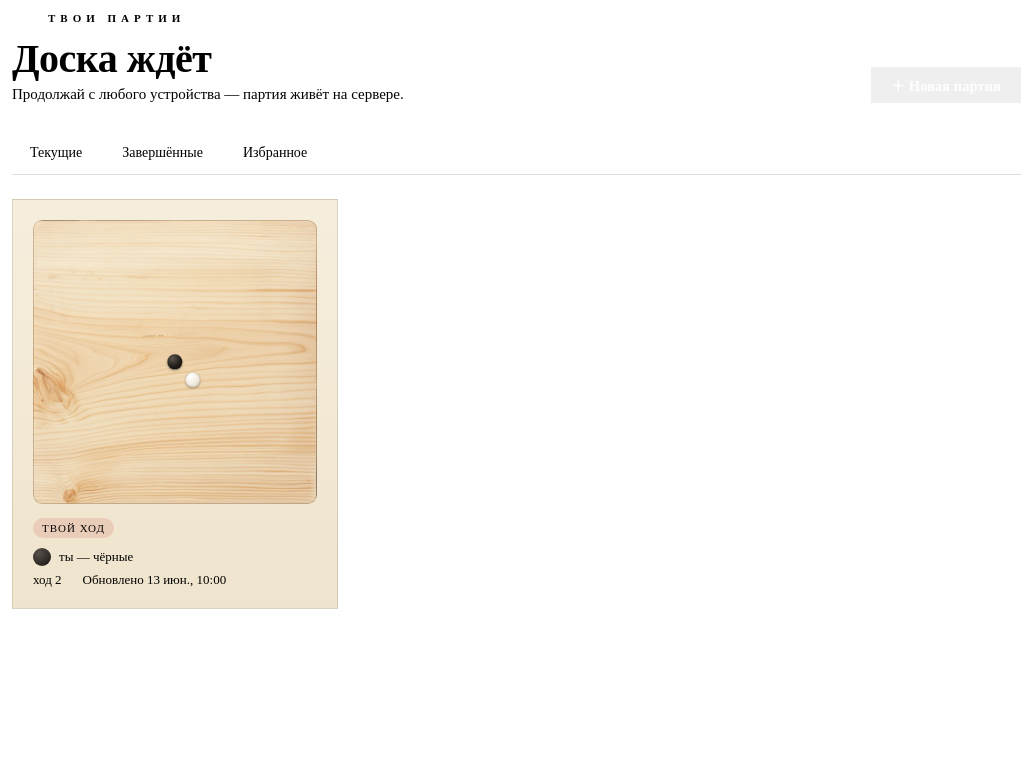
Scenario: грузит Текущие по умолчанию; таб «Завершённые» перезапрашивает свой раздел
Check: the button with test id "card-c1" is shown, box [12,199,338,609]
Click the tab "Завершённые". click: (163, 154)
box: [104,133,221,175]
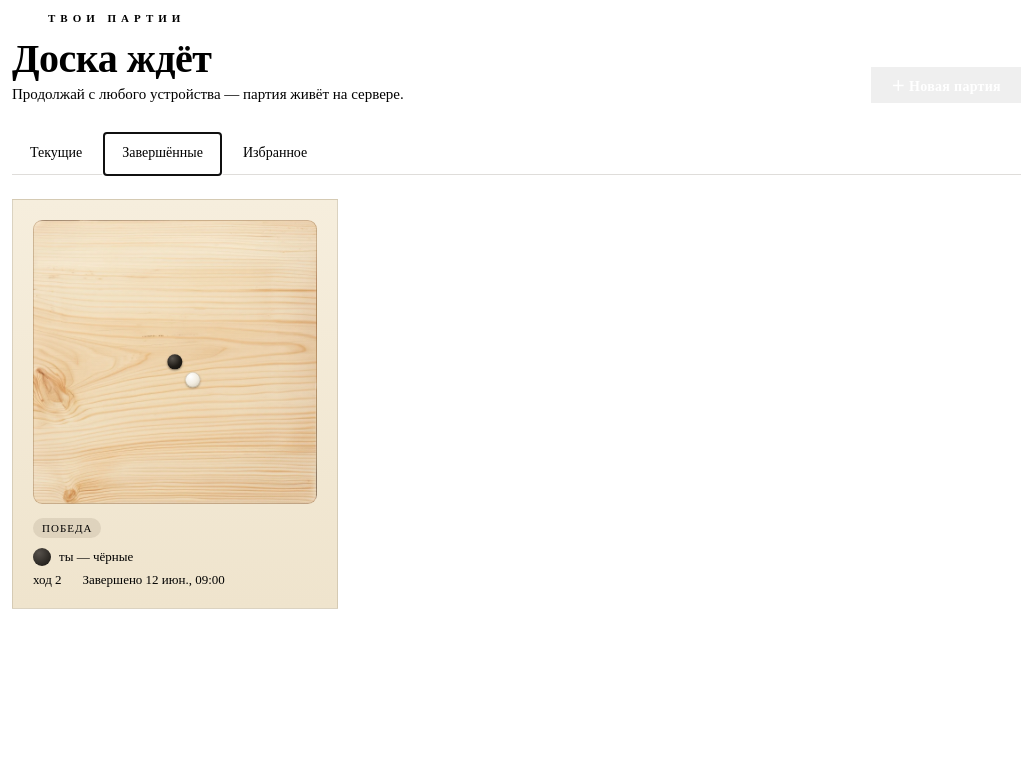
Check: the button with test id "card-f1" is shown, box [12,199,338,609]
